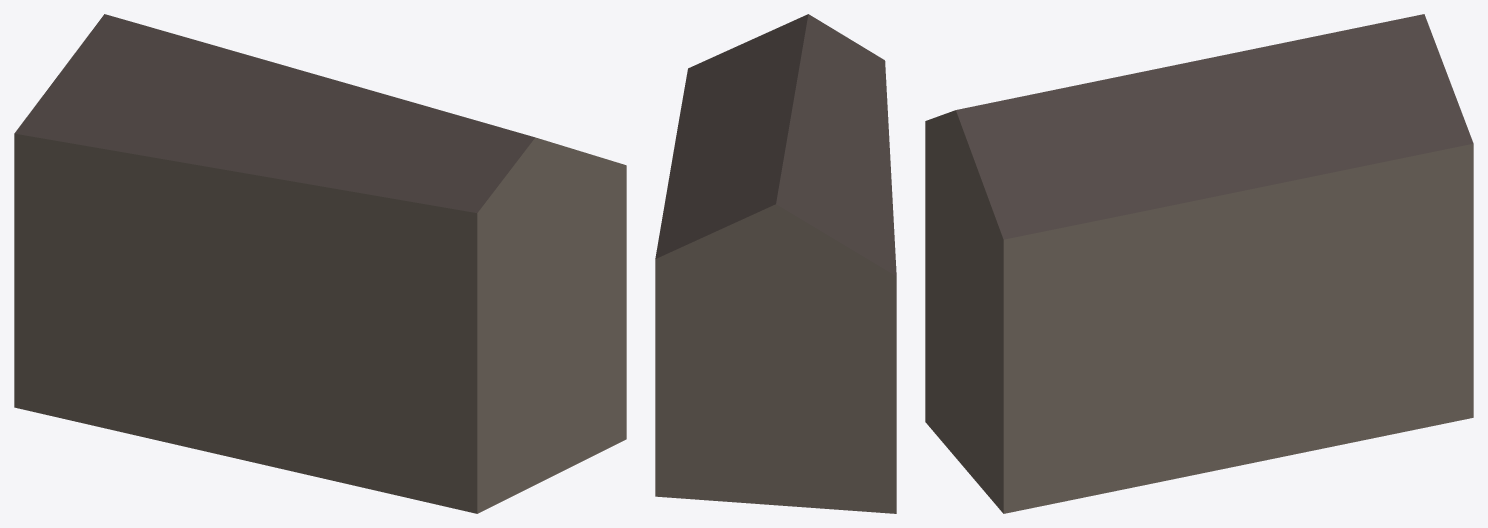
3 renders of one model, left to right at view 1: azimuth 30°, elevation 25°; view 2: azimuth 150°, elevation 25°; view 3: azimuth 270°, elevation 25°, orthographic. The views are drawn at different scales.
Parts seen in each view (by area): view 1: HP-w1198842498; view 2: HP-w1198842498; view 3: HP-w1198842498.
Boxes of the visible parts, x1=… form: HP-w1198842498: x1=14, y1=14, x2=626, y2=513; HP-w1198842498: x1=655, y1=14, x2=896, y2=513; HP-w1198842498: x1=925, y1=14, x2=1473, y2=513.
Bounding box in the file's own units: 9.78 × 7.61 × 10.88.
